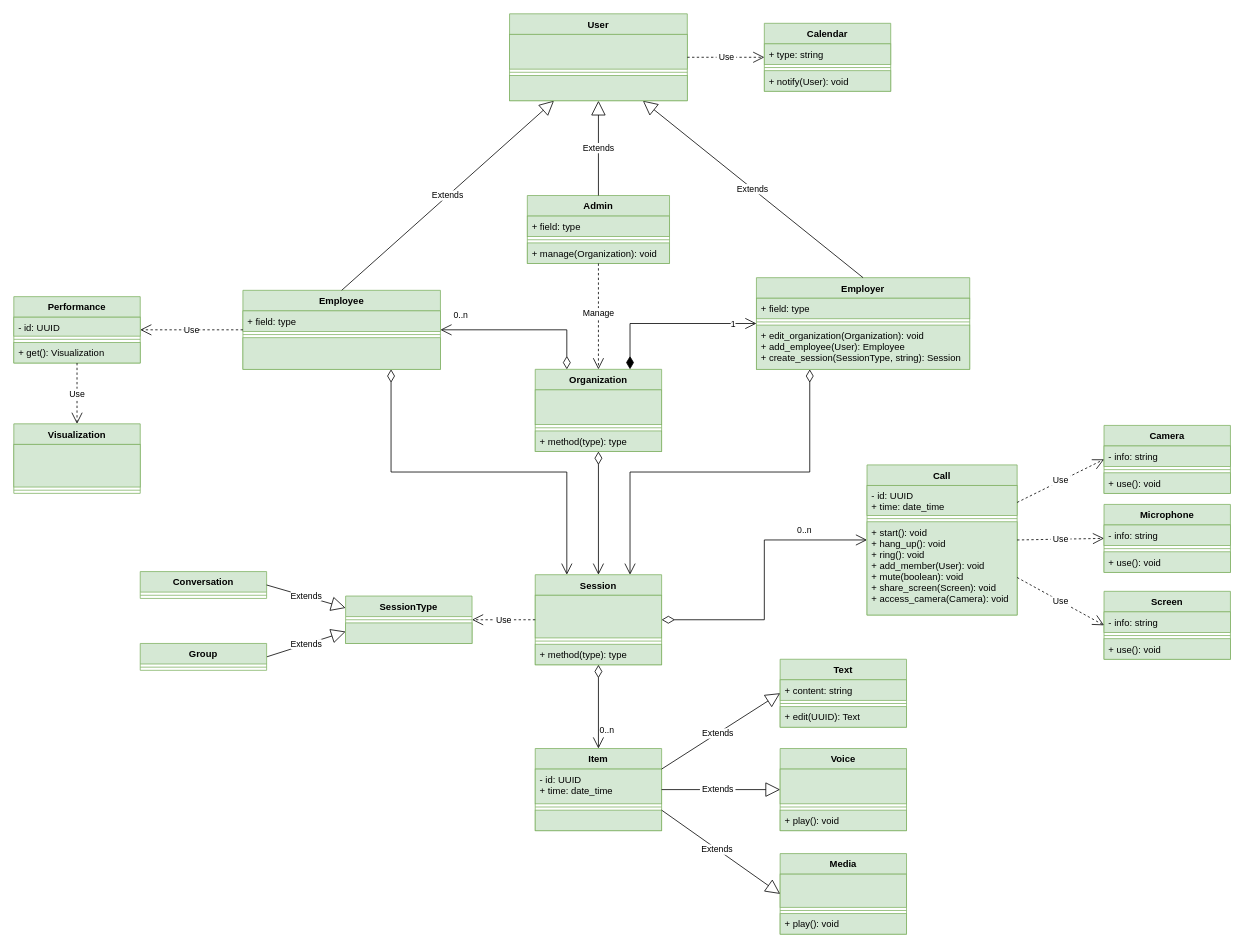
Image size: 1244x950. Some labels were removed from this diagram. The shapes that lost their labels are listed below. From the top down, each one's centre as x and y in pixels, then its label:
At (598,51): "+ name: string - email: string".
At (598,88): "+ create_organization(): Organization".
At (341,353): "+ create_session(): Session + get_performance(Employee): Performance".
At (598,407): "+ name: string - id: UUID".
At (76,465): "- X: integer - Y: integer - Z: integer".
At (408,632): "+ get_type(): SessionType".
At (598,616): "+ type: SessionType + name: string - id: UUID".
At (843,786): "+ name: type - file_name: string".
At (598,820): "+ delete(UUID): void".
At (843,890): "+ name: string - file_name: string".
